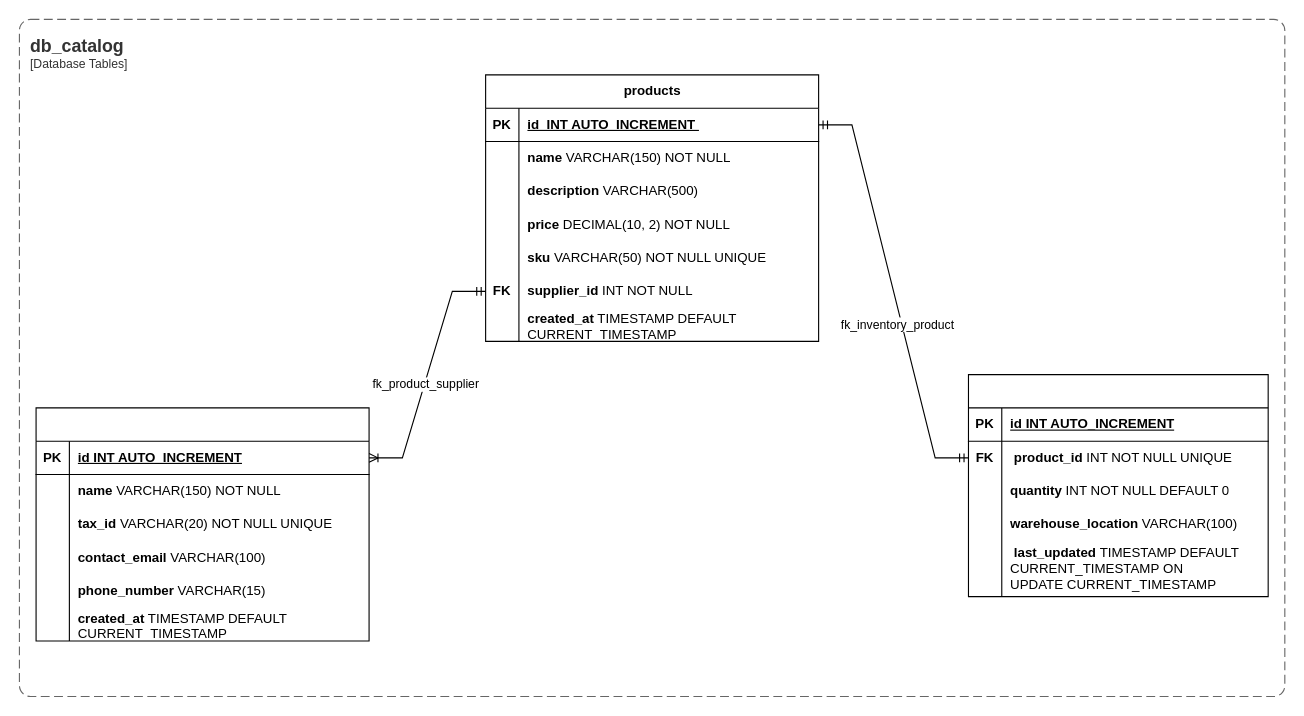
Image size: 1304x716. Some labels were removed from this diagram. The box of each missing label's shape, as (x1, y1, x2, y2) in pixels:
inventory: (967, 374, 1268, 597)
suppliers: (35, 407, 369, 641)
